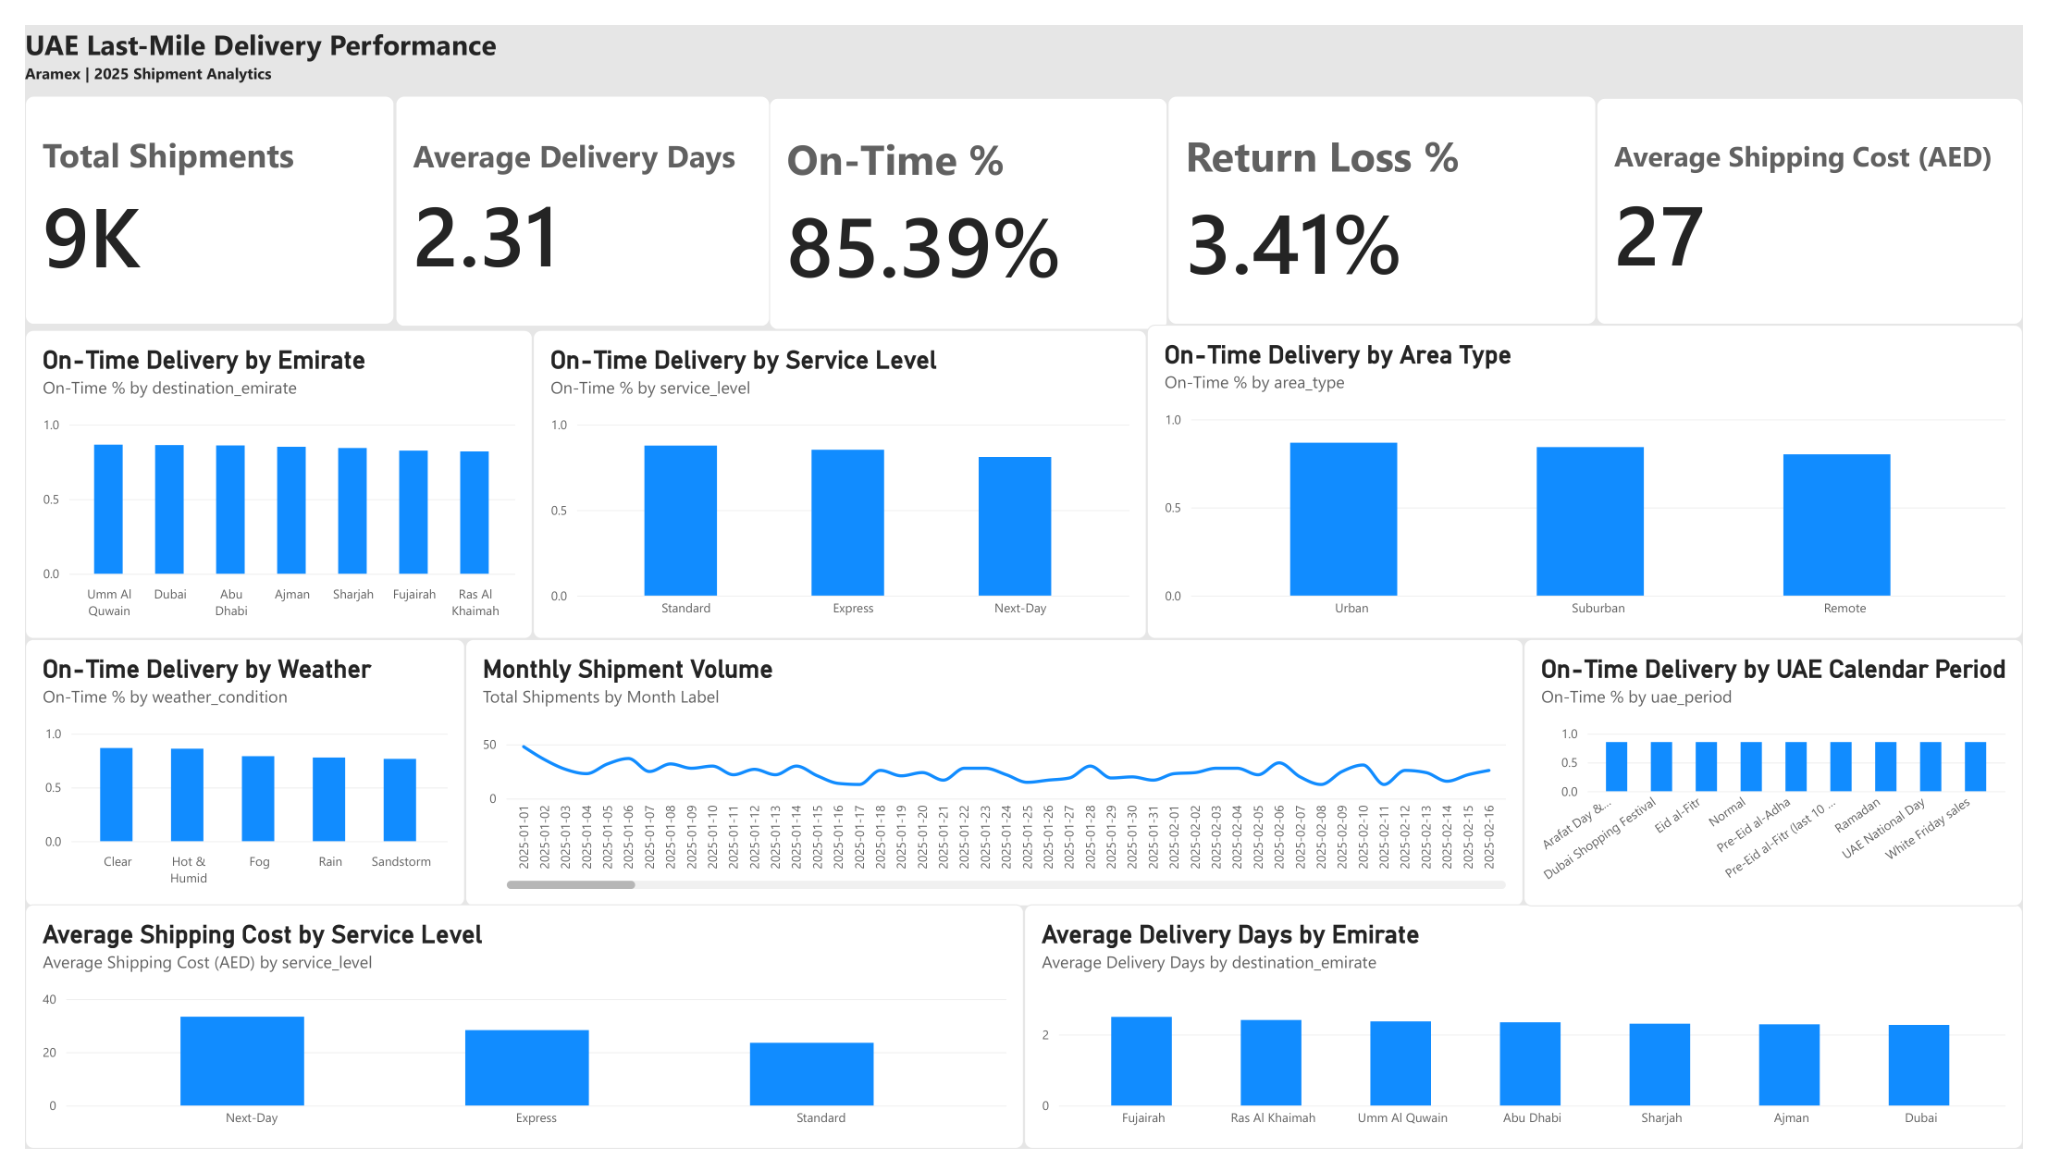

The page's visual inventory and layout, read from the dashboard file:
{"tool":"powerbi","page":{"name":"UAE Last-Mile Delivery Performance","canvas":[1920,1080],"ordinal":0},"visuals":[{"type":"cardVisual","fields":{"Data":["shipments_clean.Total Shipments"]},"box":[0,67.5,355,220],"z":0},{"type":"cardVisual","fields":{"Data":["shipments_clean.On-Time %"]},"box":[715,70,382.5,222.5],"z":1000},{"type":"cardVisual","fields":{"Data":["shipments_clean.Average Delivery Days"]},"box":[355.6,67.8,360,222.2],"z":2000},{"type":"cardVisual","fields":{"Data":["shipments_clean.Average Shipping Cost"]},"box":[1510,70,410,217.5],"z":3000},{"type":"cardVisual","fields":{"Data":["shipments_clean.Return Loss %"]},"box":[1097.5,67.5,412.5,220],"z":4000},{"type":"clusteredColumnChart","title":"On-Time Delivery by Emirate","fields":{"Category":["shipments_clean.destination_emirate"],"Y":["shipments_clean.On-Time %"]},"box":[0,292.5,487.5,297.5],"z":5000},{"type":"clusteredColumnChart","title":"On-Time Delivery by Service Level","fields":{"Category":["shipments_clean.service_level"],"Y":["shipments_clean.On-Time %"]},"box":[487.5,292.5,590,297.5],"z":6000},{"type":"clusteredColumnChart","title":"On-Time Delivery by Weather","fields":{"Category":["shipments_clean.weather_condition"],"Y":["shipments_clean.On-Time %"]},"box":[0,590,423.3,256.7],"z":7000},{"type":"lineChart","title":"Monthly Shipment Volume","fields":{"Category":["shipments_clean.Month Label"],"Y":["shipments_clean.Total Shipments"]},"box":[423.3,590,1016.7,256.7],"z":8000},{"type":"clusteredColumnChart","title":"Average Shipping Cost by Service Level","fields":{"Category":["shipments_clean.service_level"],"Y":["shipments_clean.Average Shipping Cost"]},"box":[0,845,960,235],"z":9000},{"type":"clusteredColumnChart","title":"Average Delivery Days by Emirate","fields":{"Category":["shipments_clean.destination_emirate"],"Y":["shipments_clean.Average Delivery Days"]},"box":[960,845,960,235],"z":10000},{"type":"clusteredColumnChart","title":"On-Time Delivery by Area Type","fields":{"Category":["shipments_clean.area_type"],"Y":["shipments_clean.On-Time %"]},"box":[1077.5,287.5,842.5,302.5],"z":11000},{"type":"clusteredColumnChart","title":"On-Time Delivery by UAE Calendar Period","fields":{"Category":["uae_calendar_staging.uae_period"],"Y":["shipments_clean.On-Time %"]},"box":[1440,590,480,256.7],"z":12000},{"type":"textbox","box":[0,0,1920,82.5],"z":13000}]}

Visuals, with their boxes in screenshot pixels (x1, y1, x2, y2), scaled from the page's 1920x1080 canvas onto the 2048x1173 screenshot:
cardVisual - shipments_clean.Total Shipments: (left=0, top=73, right=379, bottom=312)
cardVisual - shipments_clean.On-Time %: (left=763, top=76, right=1171, bottom=318)
cardVisual - shipments_clean.Average Delivery Days: (left=379, top=74, right=763, bottom=315)
cardVisual - shipments_clean.Average Shipping Cost: (left=1611, top=76, right=2047, bottom=312)
cardVisual - shipments_clean.Return Loss %: (left=1171, top=73, right=1611, bottom=312)
"On-Time Delivery by Emirate" clusteredColumnChart: (left=0, top=318, right=520, bottom=641)
"On-Time Delivery by Service Level" clusteredColumnChart: (left=520, top=318, right=1149, bottom=641)
"On-Time Delivery by Weather" clusteredColumnChart: (left=0, top=641, right=452, bottom=920)
"Monthly Shipment Volume" lineChart: (left=452, top=641, right=1536, bottom=920)
"Average Shipping Cost by Service Level" clusteredColumnChart: (left=0, top=918, right=1024, bottom=1172)
"Average Delivery Days by Emirate" clusteredColumnChart: (left=1024, top=918, right=2047, bottom=1172)
"On-Time Delivery by Area Type" clusteredColumnChart: (left=1149, top=312, right=2047, bottom=641)
"On-Time Delivery by UAE Calendar Period" clusteredColumnChart: (left=1536, top=641, right=2047, bottom=920)
textbox: (left=0, top=0, right=2047, bottom=90)
